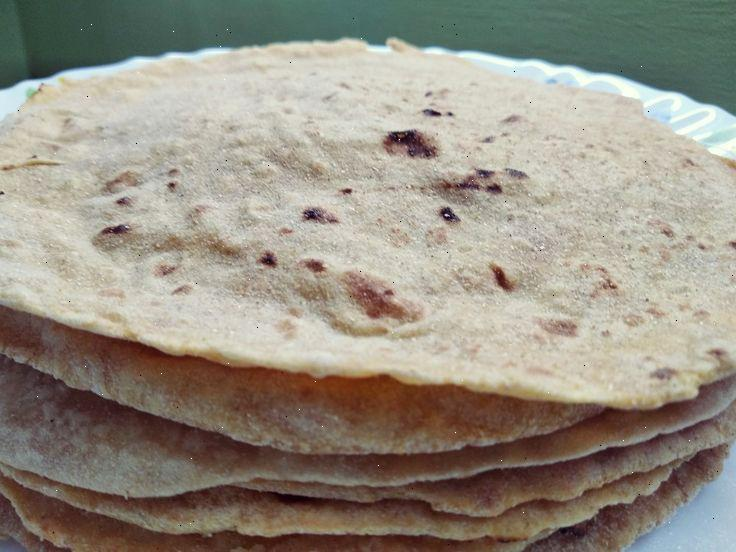roti phulka: (2, 30, 736, 551)
